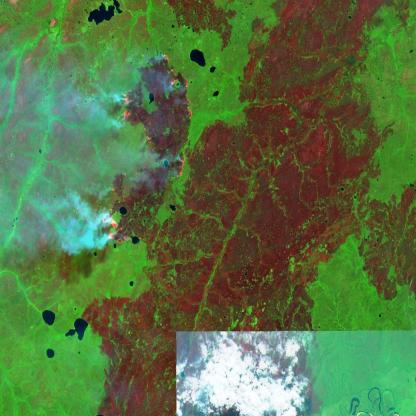fire: (98, 48, 194, 253)
